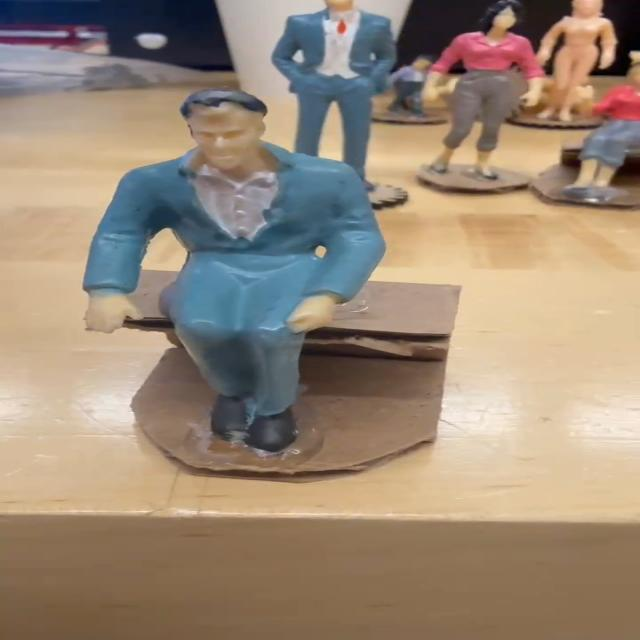Authorized: (64, 72, 396, 457)
